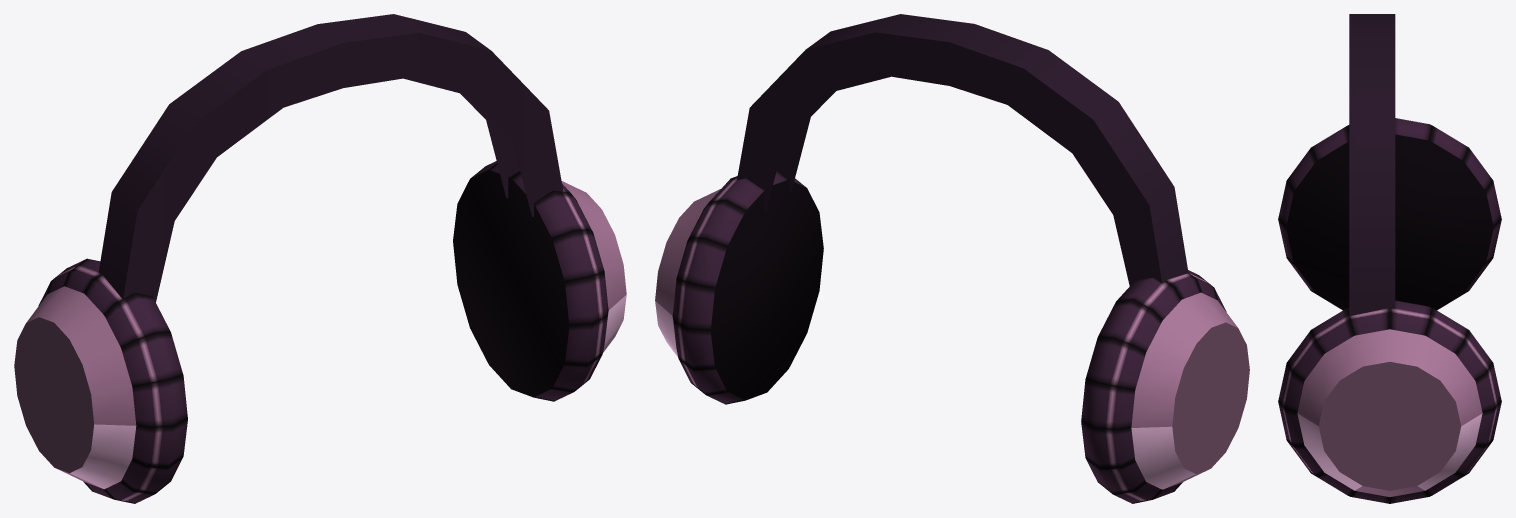
Rendered from top_acc_09.FBX.
3 views of the same model, side by side, from view 1: azimuth 30°, elevation 25°; view 2: azimuth 150°, elevation 25°; view 3: azimuth 270°, elevation 25° (orthographic). The views are drawn at different scales.
Visible parts, largest first — view 1: top_acc_09; view 2: top_acc_09; view 3: top_acc_09.
Part boxes in pixels (bbox=[...]): top_acc_09: bbox=[14, 14, 626, 503]; top_acc_09: bbox=[655, 14, 1249, 503]; top_acc_09: bbox=[1278, 14, 1501, 503].
Bounding box in the file's own units: 36.84 × 27.6 × 15.04.
